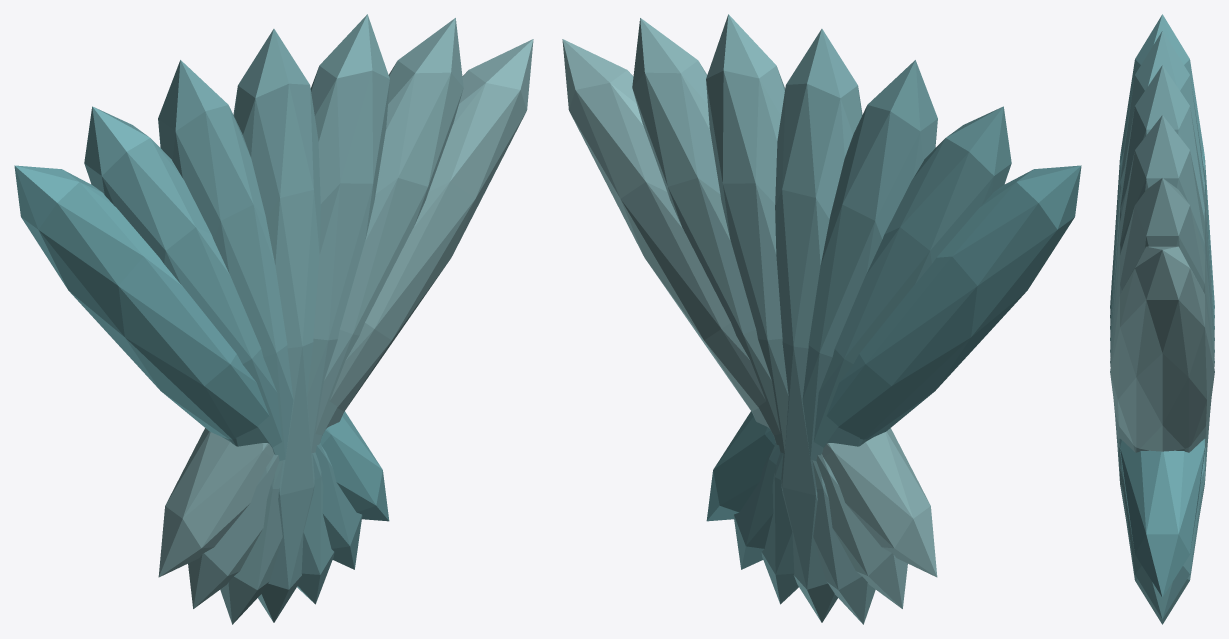
File: fan_shell.glb
3 renders of one model, left to right at view 1: azimuth 30°, elevation 25°; view 2: azimuth 150°, elevation 25°; view 3: azimuth 270°, elevation 25°, orthographic. The views are drawn at different scales.
Visible parts, largest first — view 1: ridge_0, ridge_6, ridge_3, ridge_4, ridge_5, ridge_2, ridge_1; view 2: ridge_0, ridge_6, ridge_3, ridge_4, ridge_5, ridge_2, ridge_1; view 3: ridge_6, ridge_0, ridge_5, ridge_4, ridge_3, ridge_2, ridge_1.
Part boxes in pixels (x1,y1,x2,y2): ridge_0: (14, 165, 389, 521); ridge_6: (158, 39, 533, 577); ridge_3: (233, 29, 320, 622); ridge_4: (220, 14, 389, 624); ridge_5: (188, 18, 463, 608); ridge_2: (158, 60, 334, 604); ridge_1: (84, 106, 362, 569); ridge_0: (706, 165, 1081, 521); ridge_6: (562, 39, 937, 577); ridge_3: (775, 29, 862, 622); ridge_4: (706, 14, 875, 624); ridge_5: (632, 18, 907, 608); ridge_2: (761, 60, 937, 604); ridge_1: (733, 106, 1011, 569); ridge_6: (1110, 246, 1214, 451); ridge_0: (1110, 71, 1214, 597); ridge_5: (1110, 178, 1214, 452); ridge_4: (1110, 115, 1214, 451); ridge_3: (1110, 65, 1214, 514); ridge_2: (1110, 31, 1214, 624); ridge_1: (1110, 14, 1214, 618).
Bounding box in the file's own units: 0.9495 × 1.04 × 0.18.
